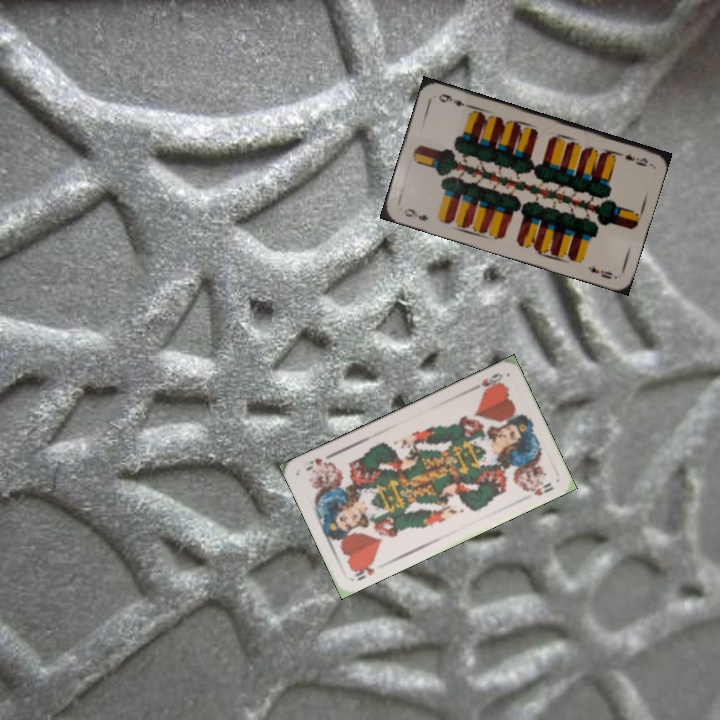E9: (612, 148, 650, 169), (400, 204, 431, 224)
HO: (467, 369, 506, 393), (349, 557, 378, 583)
